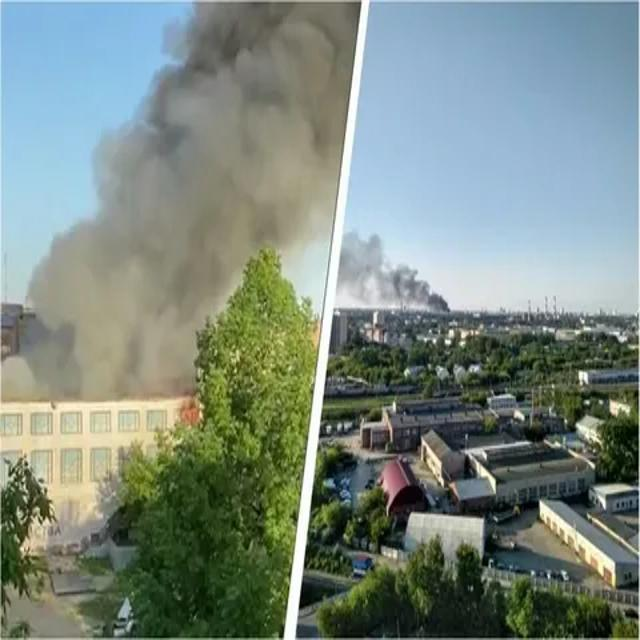Smoke: (26, 0, 324, 399), (347, 236, 452, 314)
